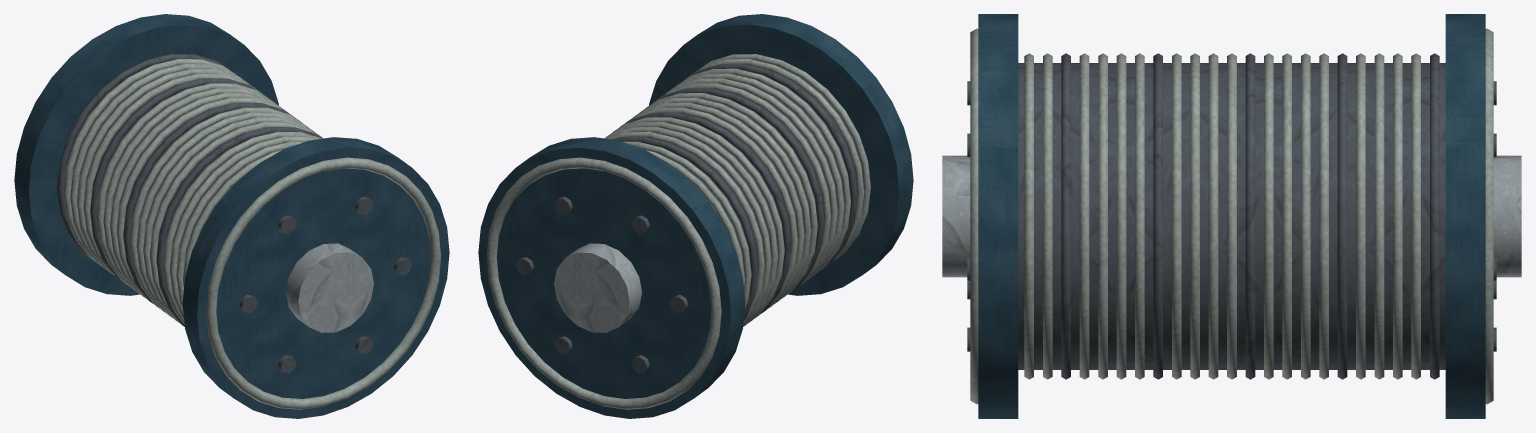
Rendered from drum.fbx.
3 views of the same model, side by side, from view 1: azimuth 30°, elevation 25°; view 2: azimuth 150°, elevation 25°; view 3: azimuth 270°, elevation 25° (orthographic). The views are drawn at different scales.
Visible parts, largest first — view 1: SM_aster_drum; view 2: SM_aster_drum; view 3: SM_aster_drum.
Part boxes in pixels (x1,y1,x2,y2): SM_aster_drum: (14,14,449,418); SM_aster_drum: (478,14,913,418); SM_aster_drum: (942,14,1521,418).
Bounding box in the file's own units: 1.38 × 1.38 × 1.97.
4 materials, 4 textured.
